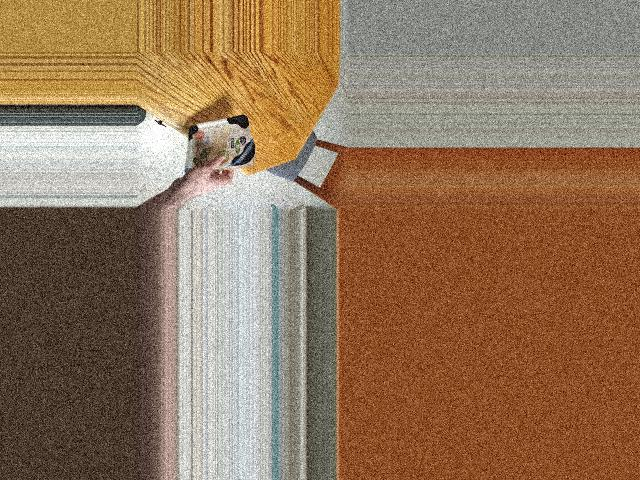cheese: (176, 120, 259, 170)
